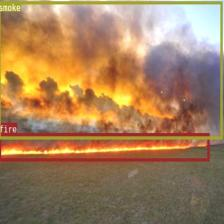fire: (0, 132, 209, 160)
smoke: (0, 0, 222, 138)
